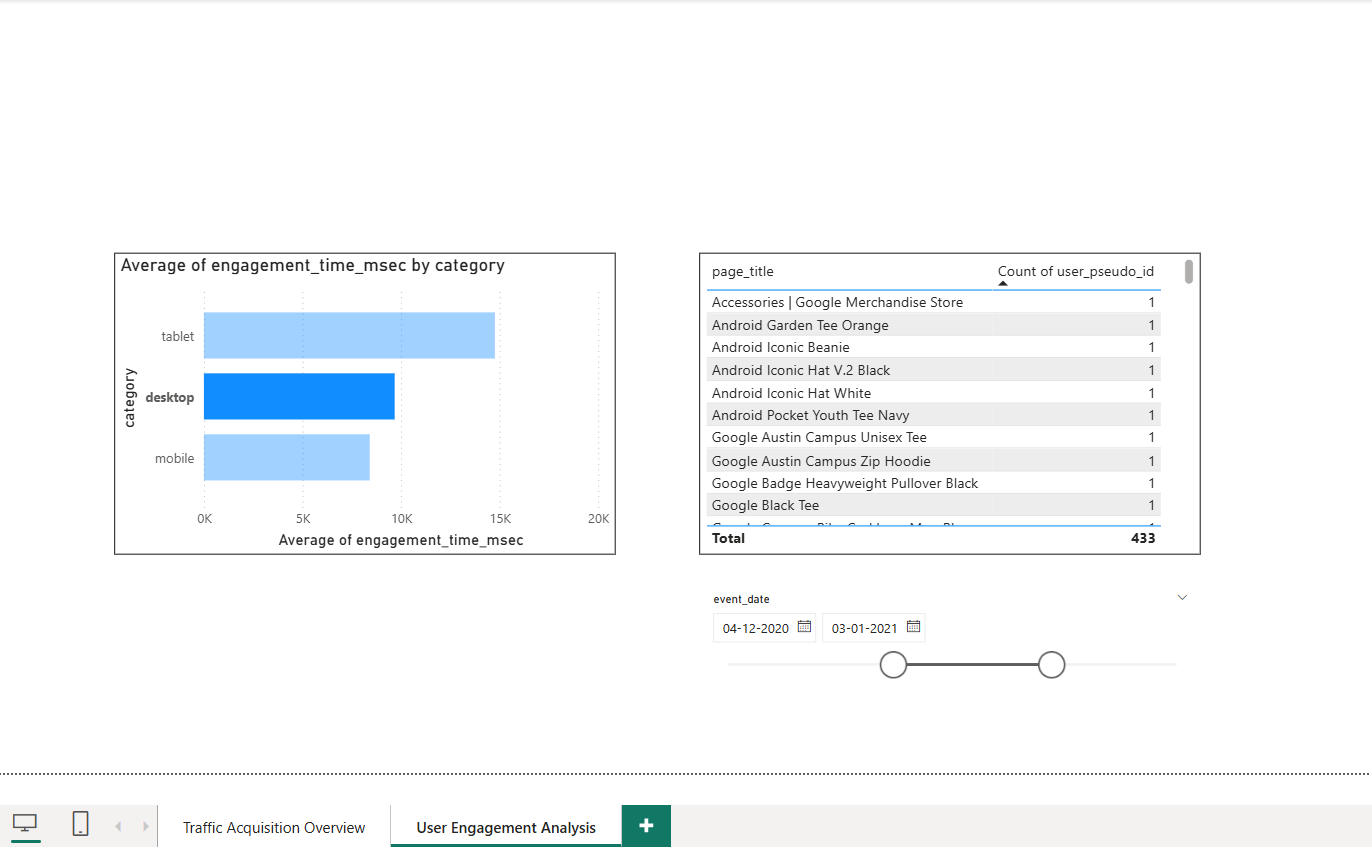

Layout of this report page (visuals, bound fields, positions):
{"tool":"powerbi","page":{"name":"User Engagement Analysis","canvas":[1280,720],"ordinal":1},"visuals":[{"type":"clusteredBarChart","fields":{"Category":["dataset.category"],"Y":["Avg(dataset.engagement_time_msec)"]},"box":[108.2,236.1,466.6,281.1],"z":0},{"type":"tableEx","fields":{"Values":["dataset.page_title","Count(dataset.user_pseudo_id)"]},"box":[652.1,236.1,466.6,281.1],"z":1000},{"type":"slicer","fields":{"Values":["dataset.event_date"]},"box":[652.1,546.7,466.6,95.6],"z":1001}]}

Visuals, with their boxes on the page's 1280x720 design canvas (x1, y1, x2, y2). These are canvas units, not pixel positions in the 1372x847 screenshot, which may show the page scaled, cropped or inside an application window:
clusteredBarChart - dataset.category x Avg(dataset.engagement_time_msec): l=108, t=236, r=575, b=517
tableEx - dataset.page_title x Count(dataset.user_pseudo_id): l=652, t=236, r=1119, b=517
slicer - dataset.event_date: l=652, t=547, r=1119, b=642
